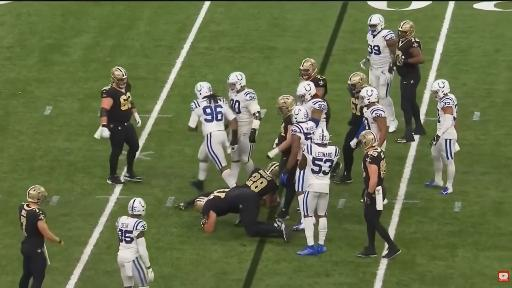Helmet: (276, 95, 295, 116), (348, 72, 367, 93), (296, 82, 315, 102), (359, 86, 378, 105), (227, 72, 246, 91), (431, 80, 450, 99), (27, 186, 47, 204), (300, 59, 317, 80), (128, 197, 146, 216), (368, 14, 384, 35), (111, 67, 127, 88), (359, 131, 377, 149), (398, 20, 414, 39), (292, 106, 309, 123), (195, 82, 212, 98), (313, 128, 329, 144), (266, 162, 279, 180), (195, 197, 207, 212)
Jersey: (303, 144, 339, 193), (189, 98, 235, 135), (229, 88, 261, 133), (116, 216, 147, 261), (102, 82, 133, 123), (19, 203, 45, 249), (367, 30, 395, 68), (202, 189, 239, 216), (244, 168, 278, 197), (396, 38, 421, 77), (362, 147, 385, 188), (437, 94, 457, 139), (364, 104, 386, 140), (302, 99, 327, 129), (291, 121, 316, 148), (348, 85, 363, 127), (277, 115, 292, 146), (310, 75, 327, 98)
Player: (357, 131, 401, 259), (188, 82, 238, 191), (298, 128, 339, 255), (195, 187, 288, 241), (100, 67, 142, 184), (281, 106, 317, 230), (19, 186, 63, 287), (361, 14, 398, 132), (390, 21, 426, 142), (333, 72, 367, 183), (426, 80, 458, 194), (228, 72, 261, 181), (116, 198, 154, 287), (351, 87, 387, 149), (268, 95, 295, 171), (300, 59, 330, 126), (267, 95, 295, 165), (242, 162, 279, 207), (296, 82, 327, 128)
